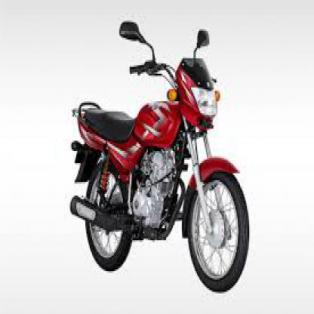Motocicleta: (62, 13, 254, 296)
